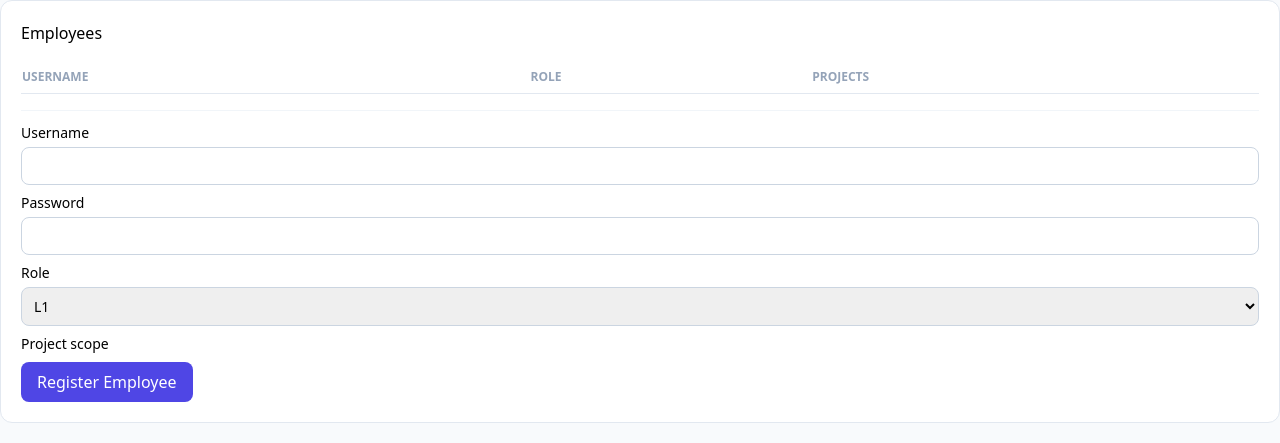
Test: EmployeesSection register-employee validation › shows the min-length inline error for a 3-character password
Type "newuser" into the field labelled "Username". click: (640, 166)
box: [21,147,1259,185]
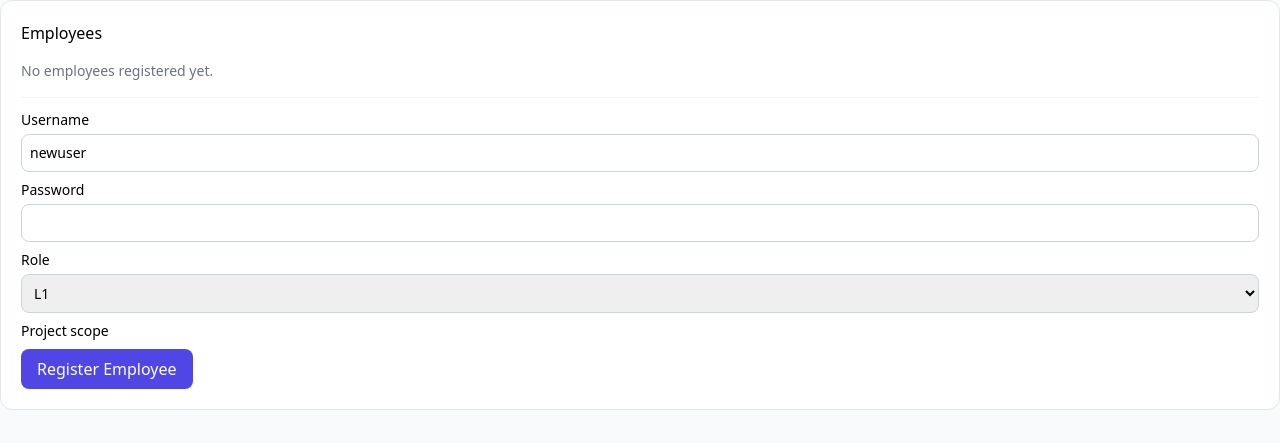
Type "abc" into the password field labelled "Password". click: (640, 223)
box: [21,204,1259,242]
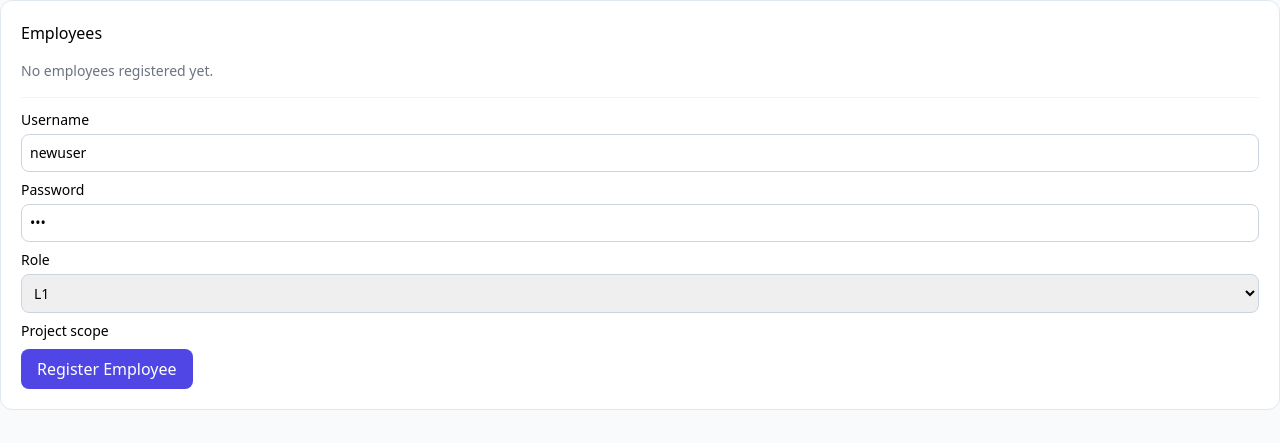
Click the button "Register Employee". click: (107, 369)
box: [21,349,193,389]
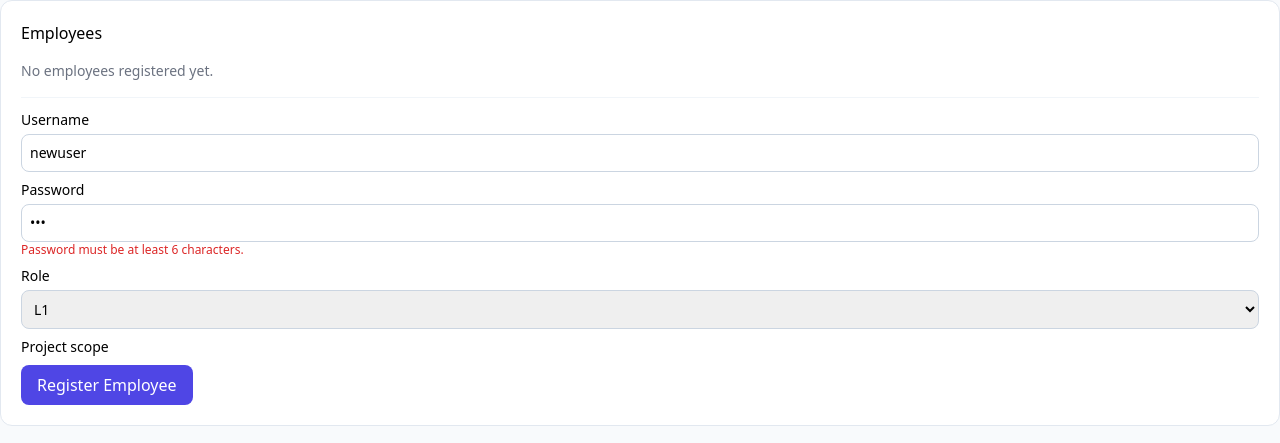
Now the text "Password must be at least 6 characters." is shown, box [21,241,244,258]
